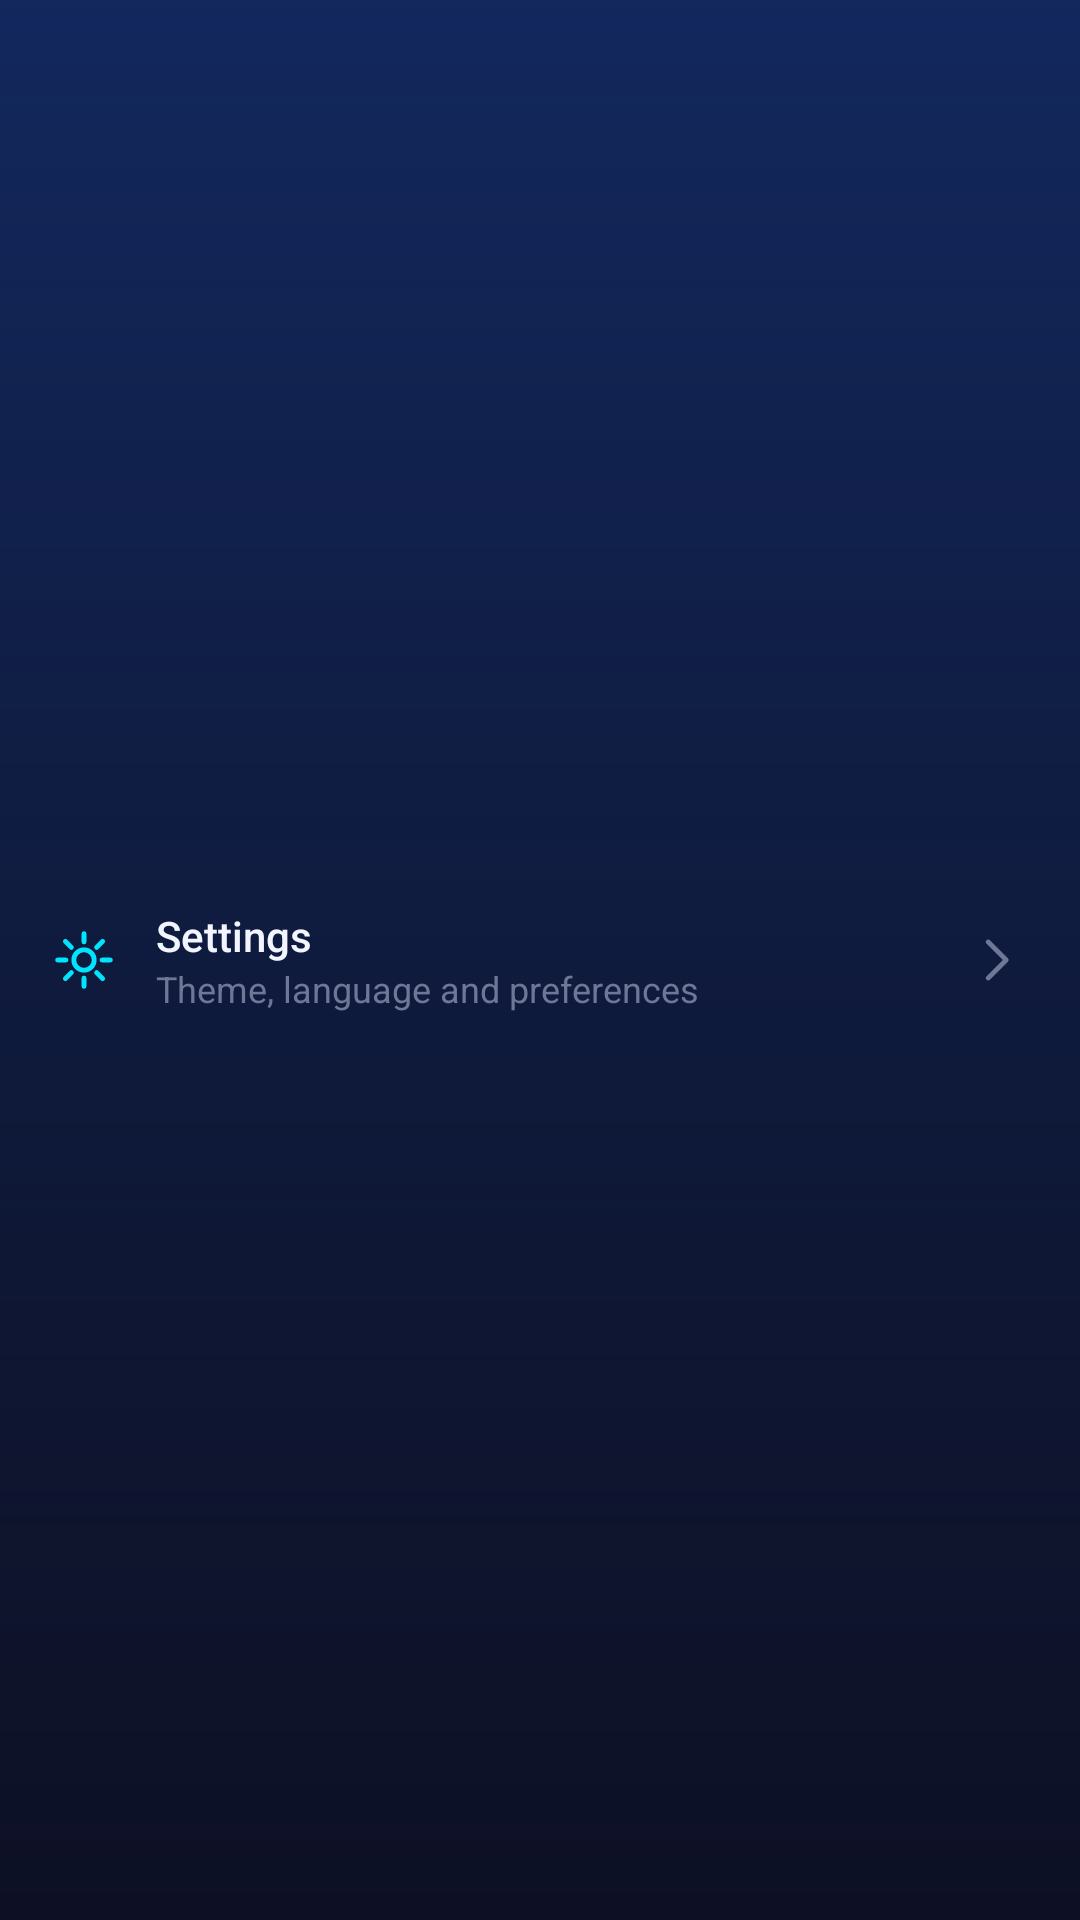

Icons on this 1080×1920 Android screen, each with the point to tap as (x=x, y=y):
Open: (x=997, y=960)
